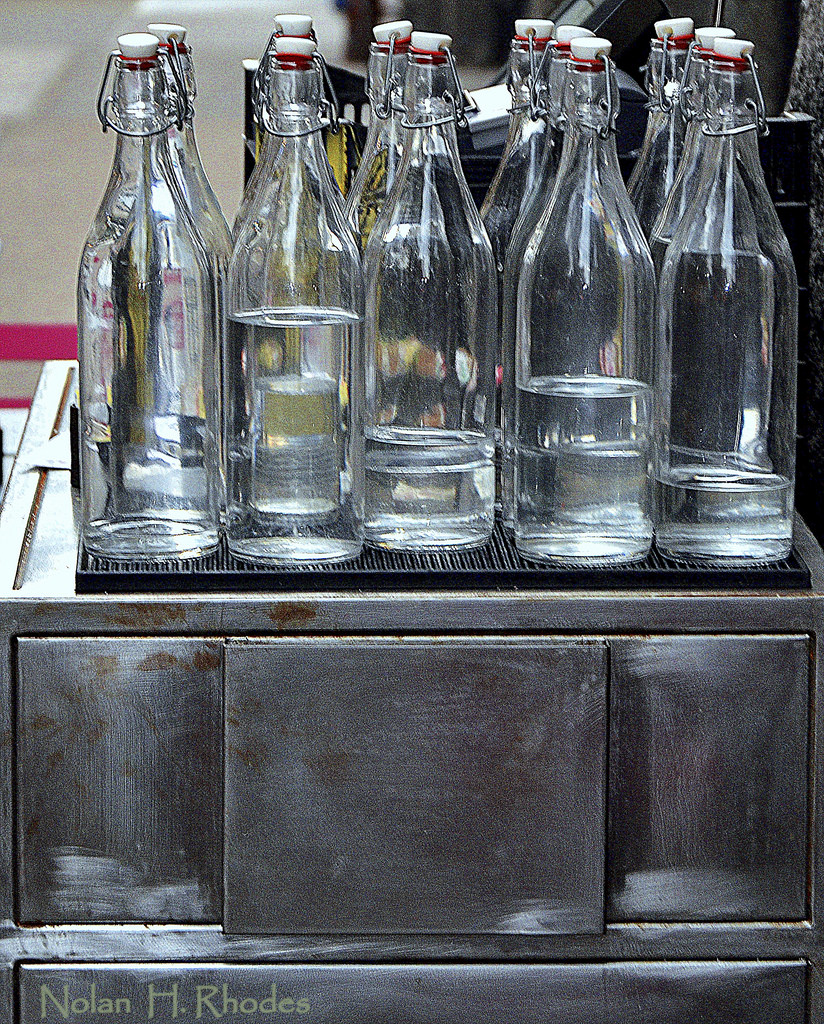glass of water: (653, 2, 797, 578), (347, 24, 497, 560), (503, 21, 647, 571), (84, 30, 214, 563), (241, 60, 364, 578)
